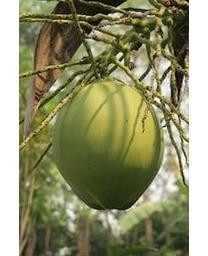coconut: (54, 78, 163, 216)
